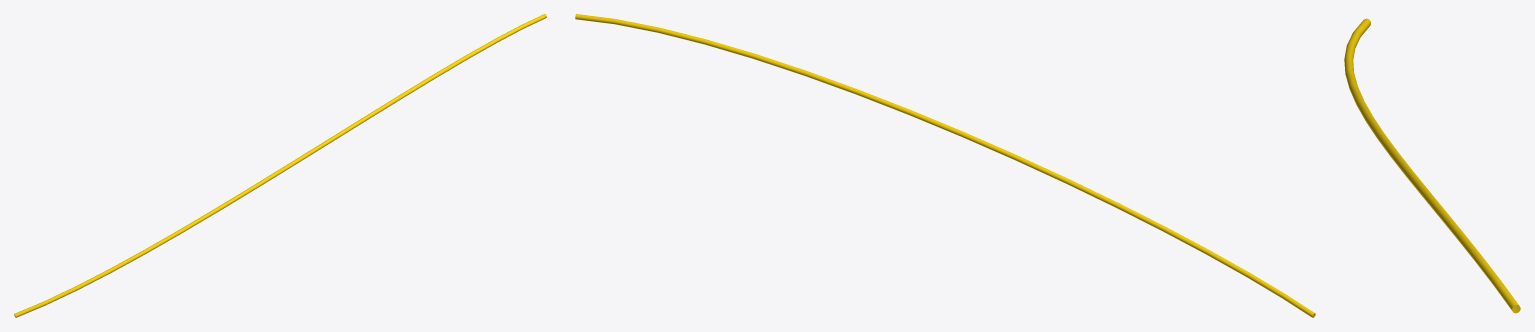
File: Event_421556567_track_22.fbx
The picture shows the model from 3 angles, left to right: view 1: azimuth 30°, elevation 25°; view 2: azimuth 150°, elevation 25°; view 3: azimuth 270°, elevation 25°; orthographic projection. The views are drawn at different scales.
Parts seen in each view (by area): view 1: Model; view 2: Model; view 3: Model.
Boxes of the visible parts, <box> form: Model: <box>14,14,546,317</box>; Model: <box>575,14,1315,317</box>; Model: <box>1344,18,1520,313</box>.
Bounding box in the file's own units: 5.91 × 1.37 × 0.7939.
